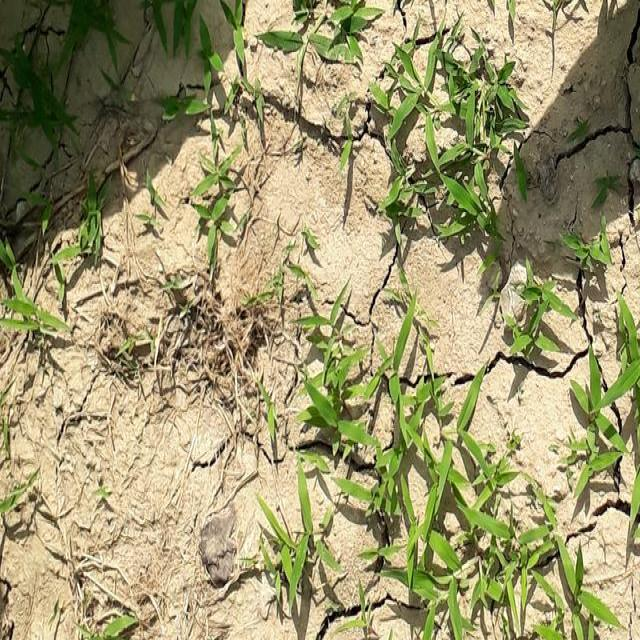weed: (283, 329, 626, 640), (372, 37, 534, 249), (0, 0, 121, 261)
